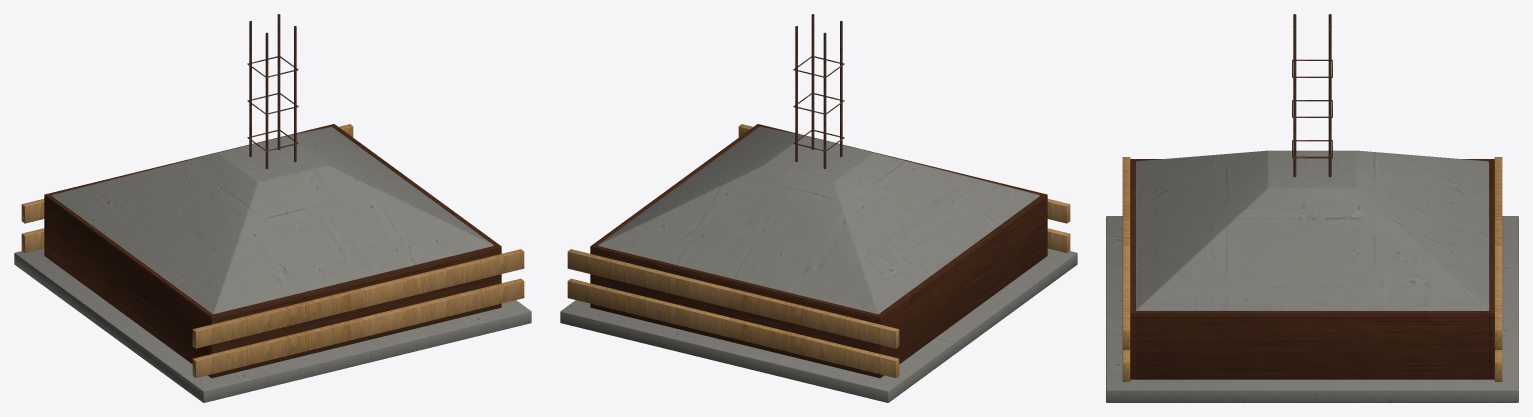
Rendered from KIT-FUN-01_lod1.glb.
3 views of the same model, side by side, from view 1: azimuth 30°, elevation 25°; view 2: azimuth 150°, elevation 25°; view 3: azimuth 270°, elevation 25° (orthographic). The views are drawn at different scales.
Visible parts, largest first — view 1: KIT-FUN-01_tronco, KIT-FUN-01_lastro, KIT-FUN-01_fx, KIT-FUN-01_fy, KIT-FUN-01_sar.001, KIT-FUN-01_sar, KIT-FUN-01_fx.001, KIT-FUN-01_fy.001, KIT-FUN-01_sar.003, KIT-FUN-01_base, KIT-FUN-01_arr_barra0, KIT-FUN-01_arr_barra3 (+1 smaller); view 2: KIT-FUN-01_tronco, KIT-FUN-01_lastro, KIT-FUN-01_fx, KIT-FUN-01_fy.001, KIT-FUN-01_sar.003, KIT-FUN-01_sar.002, KIT-FUN-01_fx.001, KIT-FUN-01_fy, KIT-FUN-01_sar.001, KIT-FUN-01_base, KIT-FUN-01_arr_barra1, KIT-FUN-01_arr_barra2 (+1 smaller); view 3: KIT-FUN-01_tronco, KIT-FUN-01_fx.001, KIT-FUN-01_lastro, KIT-FUN-01_sar.001, KIT-FUN-01_sar.003, KIT-FUN-01_fy, KIT-FUN-01_fy.001, KIT-FUN-01_base, KIT-FUN-01_arr_barra2, KIT-FUN-01_arr_barra3.
Part boxes in pixels (x1,y1,x2,y2): KIT-FUN-01_tronco: (52,127,493,313); KIT-FUN-01_lastro: (14,248,531,402); KIT-FUN-01_fx: (46,195,212,376); KIT-FUN-01_fy: (209,244,501,378); KIT-FUN-01_sar.001: (192,249,524,348); KIT-FUN-01_sar: (192,278,524,377); KIT-FUN-01_fx.001: (333,125,498,245); KIT-FUN-01_fy.001: (44,124,336,257); KIT-FUN-01_sar.003: (21,124,353,223); KIT-FUN-01_base: (52,195,493,314); KIT-FUN-01_arr_barra0: (265,32,268,168); KIT-FUN-01_arr_barra3: (277,14,280,149); KIT-FUN-01_tronco: (598,127,1039,313); KIT-FUN-01_lastro: (560,248,1077,402); KIT-FUN-01_fx: (879,195,1045,376); KIT-FUN-01_fy.001: (590,244,882,378); KIT-FUN-01_sar.003: (567,249,899,348); KIT-FUN-01_sar.002: (567,278,899,377); KIT-FUN-01_fx.001: (593,125,758,245); KIT-FUN-01_fy: (755,124,1047,257); KIT-FUN-01_sar.001: (738,124,1070,223); KIT-FUN-01_base: (598,195,1039,314); KIT-FUN-01_arr_barra1: (823,32,826,168); KIT-FUN-01_arr_barra2: (811,14,814,149); KIT-FUN-01_tronco: (1136,150,1488,310); KIT-FUN-01_fx.001: (1135,311,1489,379); KIT-FUN-01_lastro: (1106,216,1518,402); KIT-FUN-01_sar.001: (1122,157,1130,349); KIT-FUN-01_sar.003: (1494,157,1502,349); KIT-FUN-01_fy: (1130,159,1135,379); KIT-FUN-01_fy.001: (1489,159,1494,379); KIT-FUN-01_base: (1135,162,1489,310); KIT-FUN-01_arr_barra2: (1293,29,1296,177); KIT-FUN-01_arr_barra3: (1328,29,1331,177).
Size of the model in its own units: 1.4 by 1.1 by 1.4.
4 materials, 4 textured.
